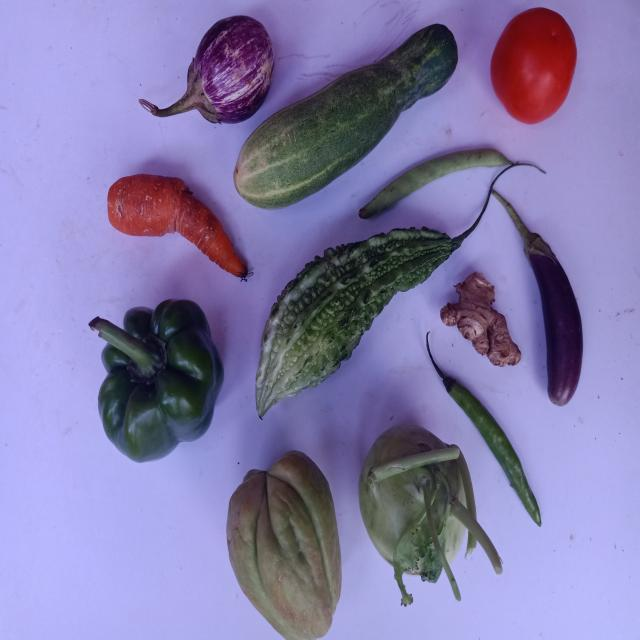Beans: (359, 147, 512, 218)
Bitter Gourd: (256, 206, 486, 417)
Brinjal: (494, 190, 584, 405)
Capsicum: (89, 300, 224, 462)
Carrot: (107, 173, 246, 277)
Chayote: (226, 451, 341, 640)
Cucumber: (233, 23, 458, 208)
Eggplant: (139, 14, 274, 122)
Ginger: (441, 272, 522, 366)
Green Chilly: (433, 360, 540, 520)
Tomato: (492, 7, 578, 123)
Turnip: (359, 425, 503, 606)
